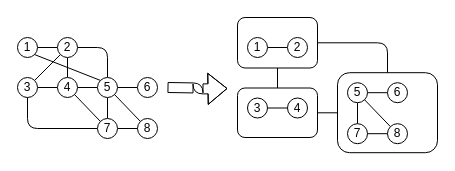
Image size: 455x171. Some labels were removed from this diagram. Here are the shapes that lost their labels. From the top down, the box of each, then its label:
(236, 16, 318, 68): M1
(236, 87, 318, 138): M2
(336, 72, 438, 153): M3
